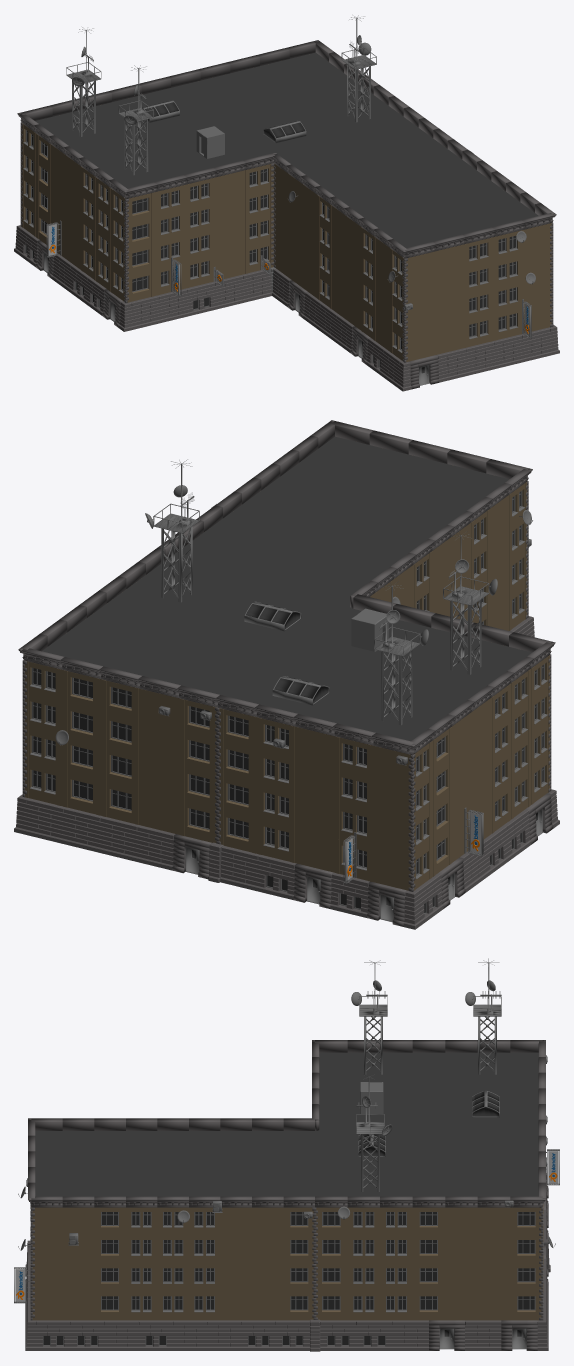
File: buildify_Red1.2.fbx
The picture shows the model from 3 angles, top to bottom: view 1: azimuth 30°, elevation 25°; view 2: azimuth 150°, elevation 25°; view 3: azimuth 270°, elevation 25°; orthographic projection. The views are drawn at different scales.
Parts seen in each view (by area): view 1: building_base; view 2: building_base; view 3: building_base.
Part boxes in pixels (x1,y1,x2,y2): building_base: (14,15,559,391); building_base: (14,420,559,929); building_base: (14,958,559,1351).
Size of the model in its own units: 3877 by 2668 by 5270.
